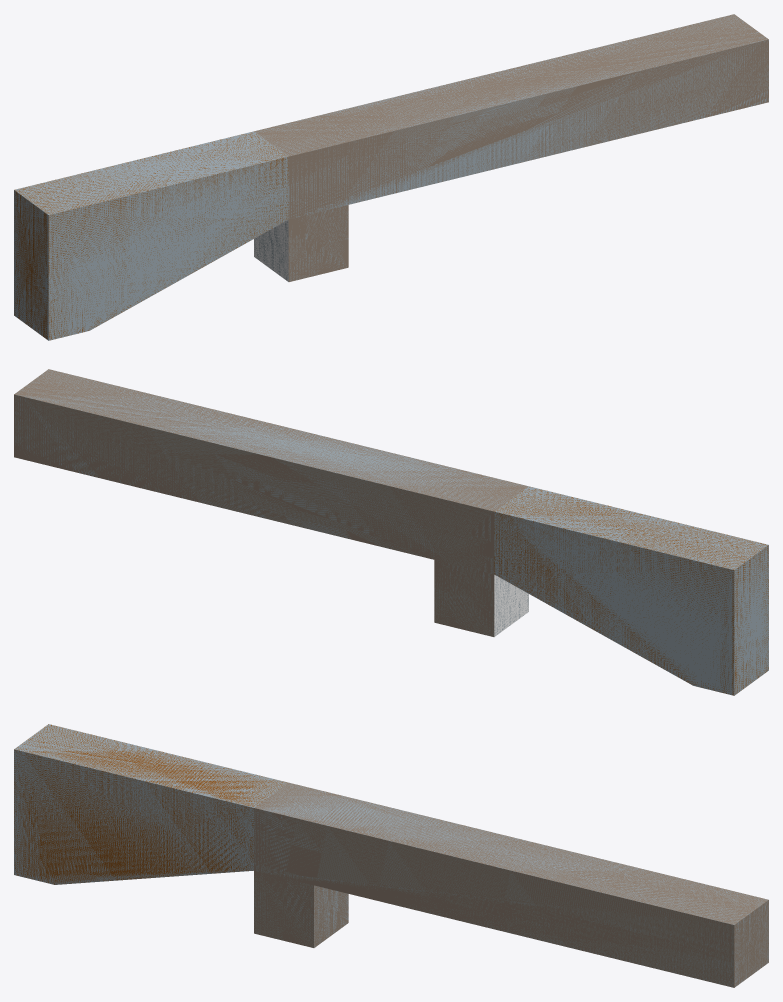
File: weepon.fbx
3 renders of one model, top to bottom at view 1: azimuth 30°, elevation 25°; view 2: azimuth 150°, elevation 25°; view 3: azimuth 330°, elevation 25°, orthographic.
Visible parts, largest first — view 1: Model; view 2: Model; view 3: Model.
Boxes of the visible parts, x1,y1,x2,y2 form: Model: (14, 14, 768, 340); Model: (14, 369, 768, 695); Model: (14, 724, 768, 987).
Bounding box in the file's own units: 12 × 2 × 1.
